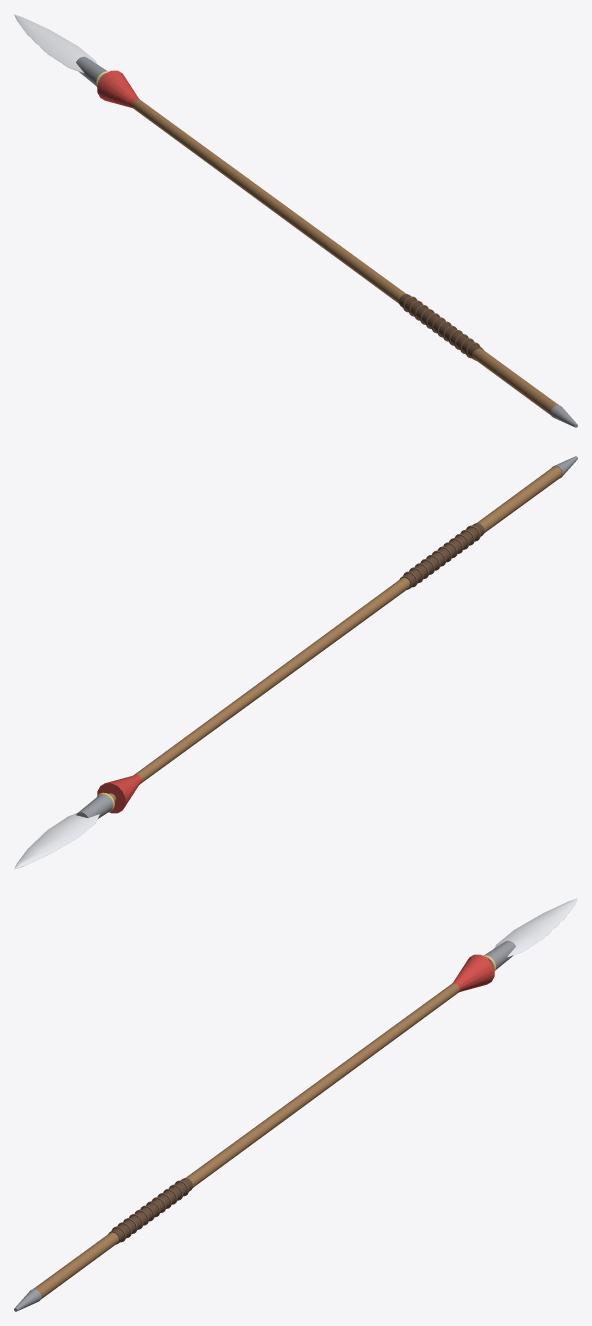
The model's file is spear.glb.
3 views of the same model, one above another, from view 1: azimuth 30°, elevation 25°; view 2: azimuth 150°, elevation 25°; view 3: azimuth 330°, elevation 25° (orthographic).
Visible parts, largest first — view 1: spear; view 2: spear; view 3: spear.
Boxes of the visible parts, bbox=[...] form: spear: bbox=[14, 14, 577, 427]; spear: bbox=[14, 456, 577, 869]; spear: bbox=[14, 898, 577, 1311].
Size of the model in its own units: 0.0728 by 0.068 by 2.3.
